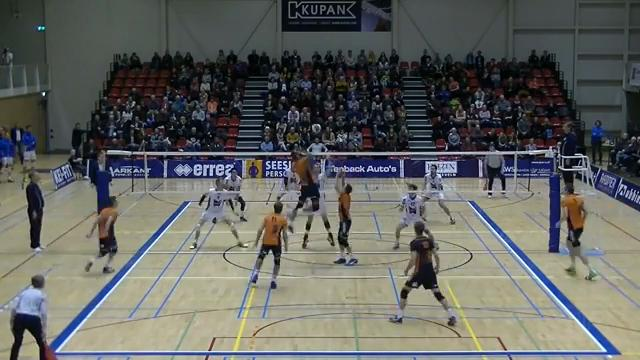attacco: (280, 143, 324, 236)
